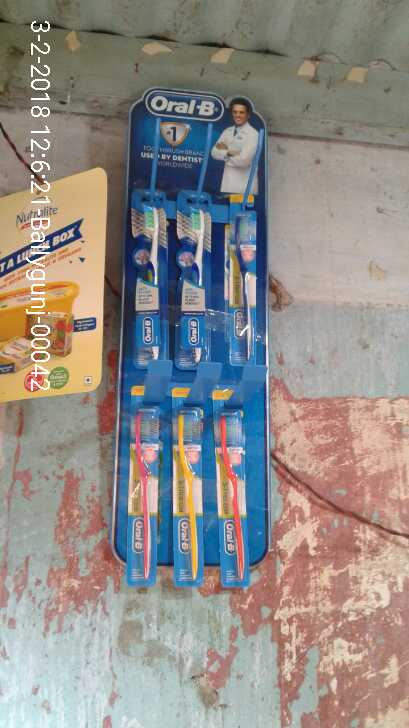oralb: (211, 389, 257, 592), (130, 185, 175, 371), (177, 179, 215, 366), (173, 389, 205, 591), (127, 392, 160, 584), (227, 187, 260, 372)
